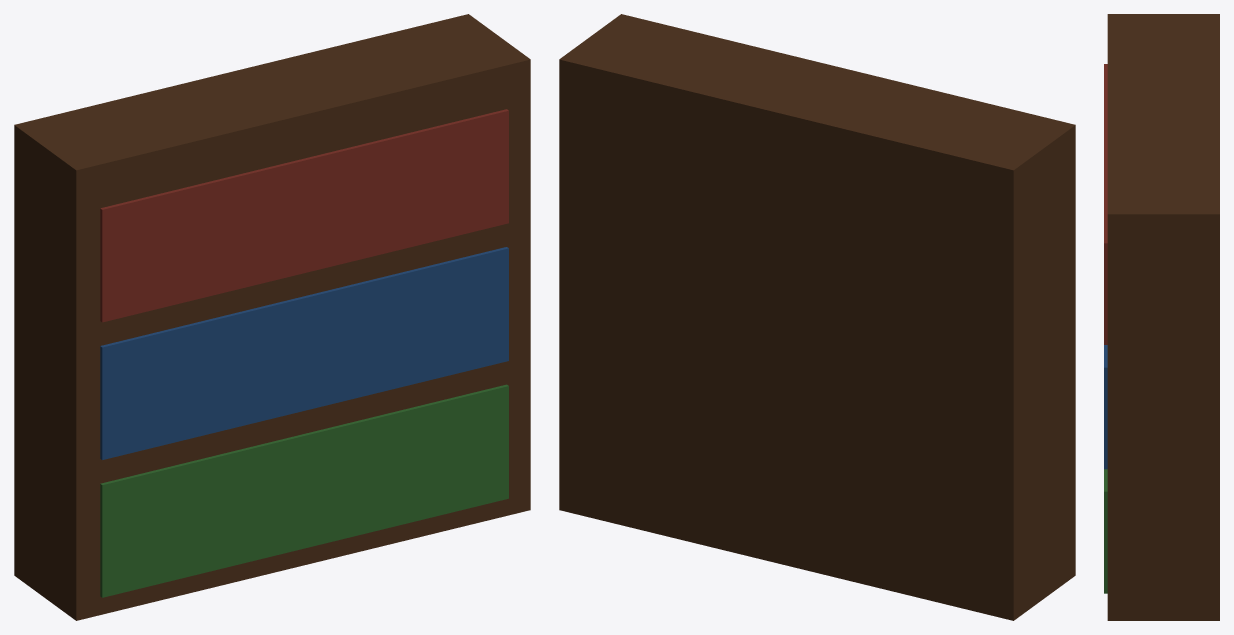
The model's file is bookshelf.7efb81b0.glb.
The picture shows the model from 3 angles, left to right: view 1: azimuth 30°, elevation 25°; view 2: azimuth 150°, elevation 25°; view 3: azimuth 270°, elevation 25°; orthographic projection. The views are drawn at different scales.
Parts seen in each view (by area): view 1: body; view 2: body; view 3: body.
Boxes of the visible parts, <box> form: body: <box>14,14,530,620</box>; body: <box>559,14,1075,620</box>; body: <box>1104,14,1219,620</box>.
Bounding box in the file's own units: 1.9 × 1.8 × 0.465.
